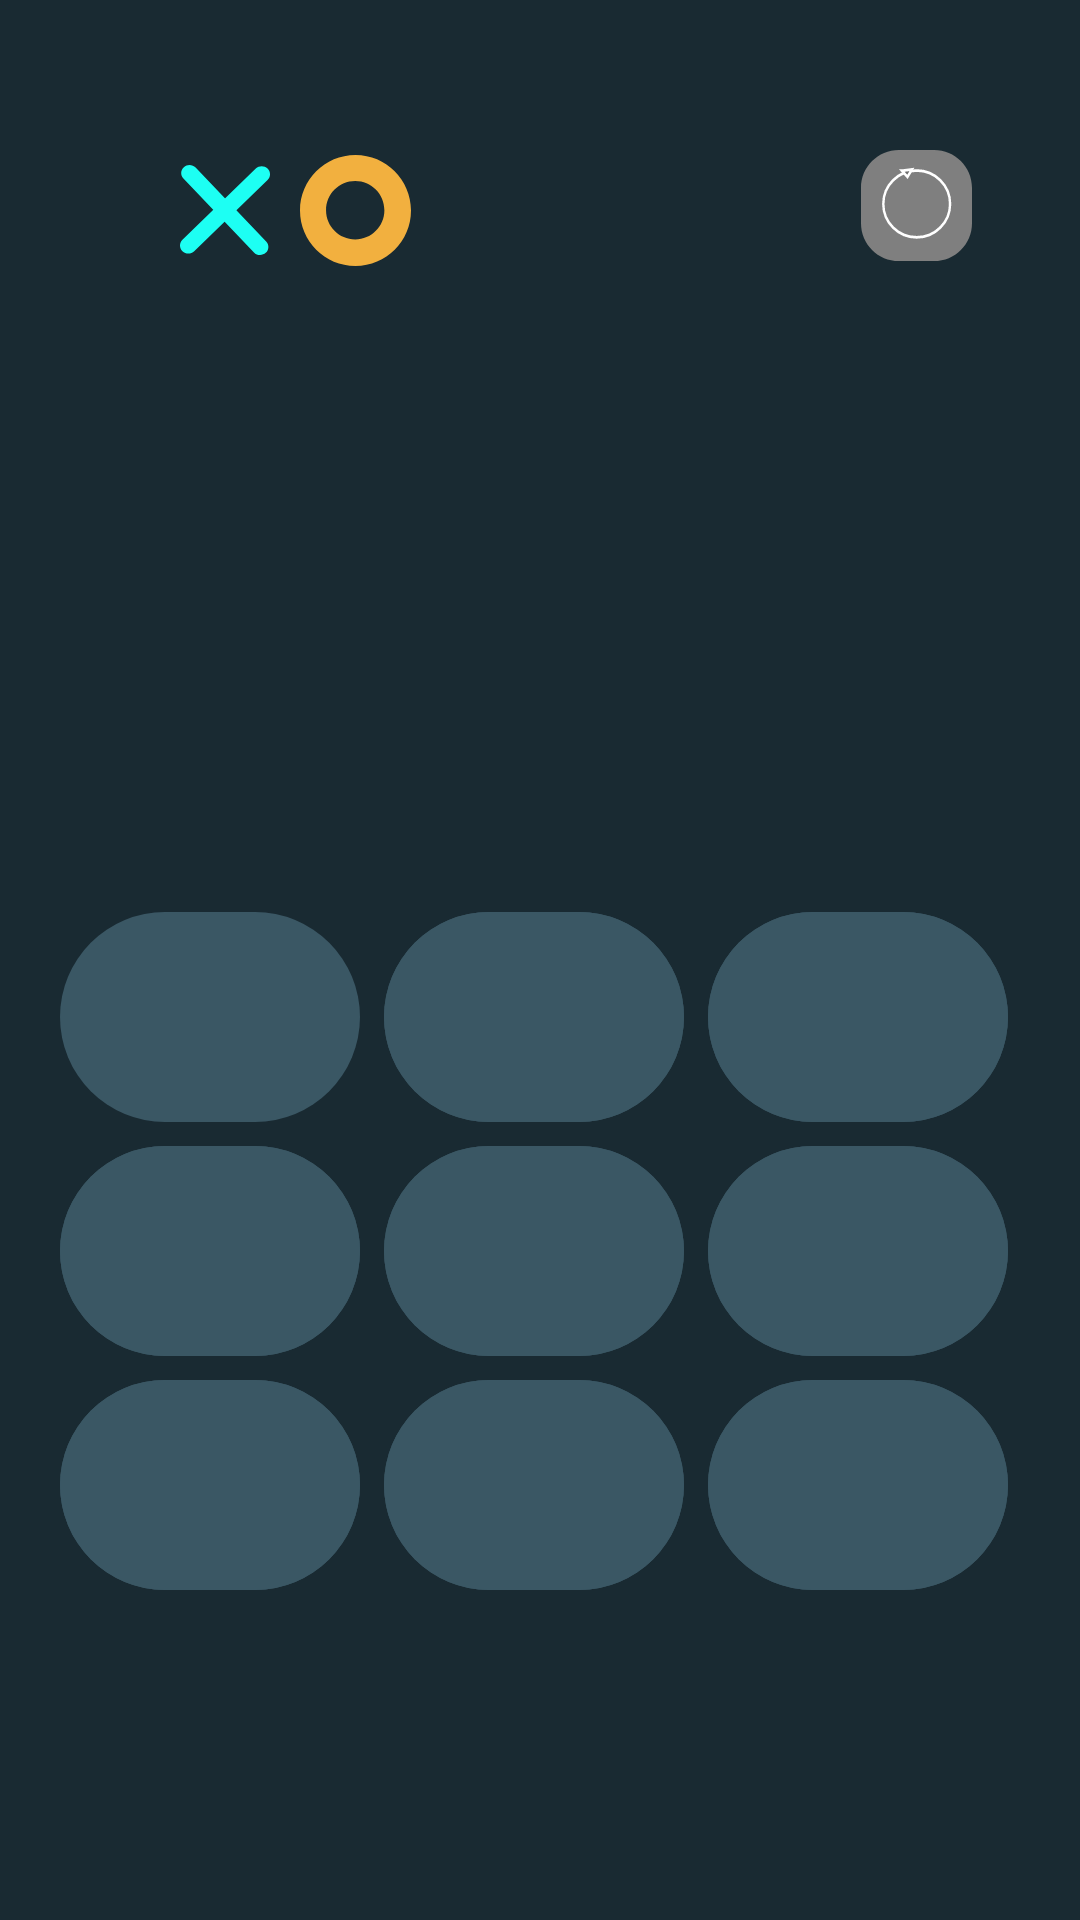

Screen size 1080 x 1920. Icon name, then its center in pixels as (x,y):
circle: (355,210)
cross: (225,210)
restart: (916,205)
